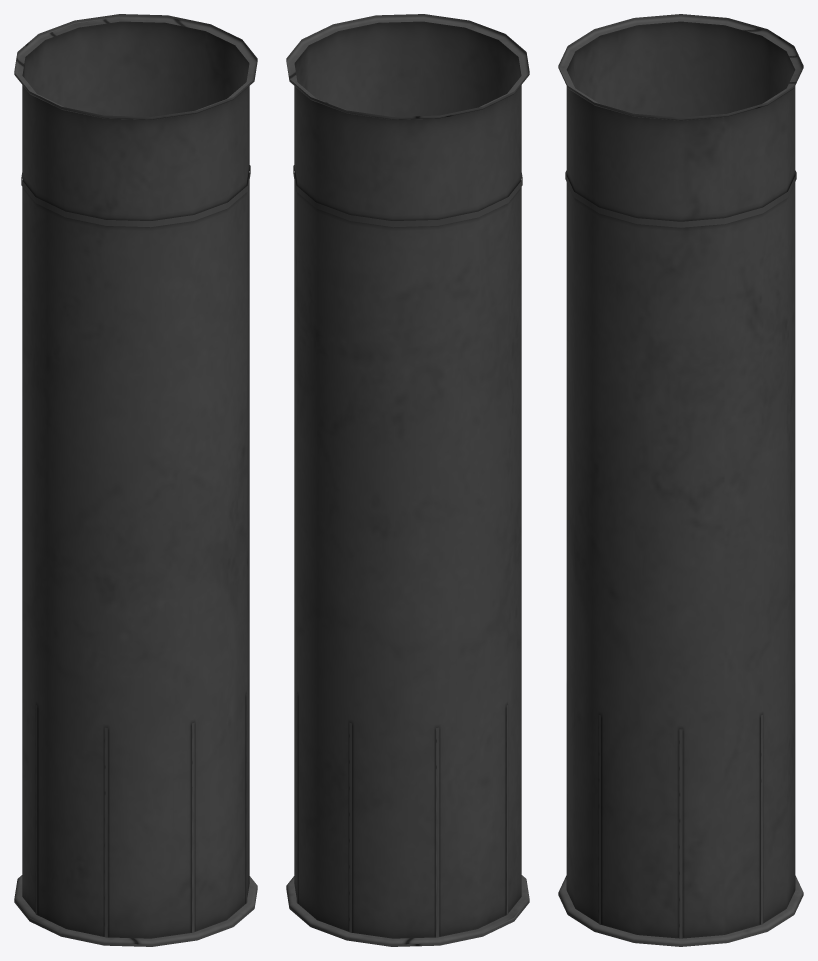
The model's file is Pillar2.fbx.
The picture shows the model from 3 angles, left to right: view 1: azimuth 30°, elevation 25°; view 2: azimuth 150°, elevation 25°; view 3: azimuth 270°, elevation 25°; orthographic projection.
Parts seen in each view (by area): view 1: polySurface3, polySurface4, Pillar_GlowMesh; view 2: polySurface3, polySurface4, Pillar_GlowMesh; view 3: polySurface3, polySurface4, Pillar_GlowMesh.
Boxes of the visible parts, box(x1,y1,x2,y2) form: polySurface3: box(22, 21, 249, 938); polySurface4: box(14, 14, 257, 946); Pillar_GlowMesh: box(21, 165, 250, 937); polySurface3: box(294, 21, 521, 938); polySurface4: box(286, 14, 529, 946); Pillar_GlowMesh: box(293, 165, 522, 937); polySurface3: box(566, 21, 795, 938); polySurface4: box(558, 14, 803, 946); Pillar_GlowMesh: box(565, 170, 796, 938).
Bounding box in the file's own units: 3.22 × 12 × 3.22.
Materials: 1 (1 with a texture image).
